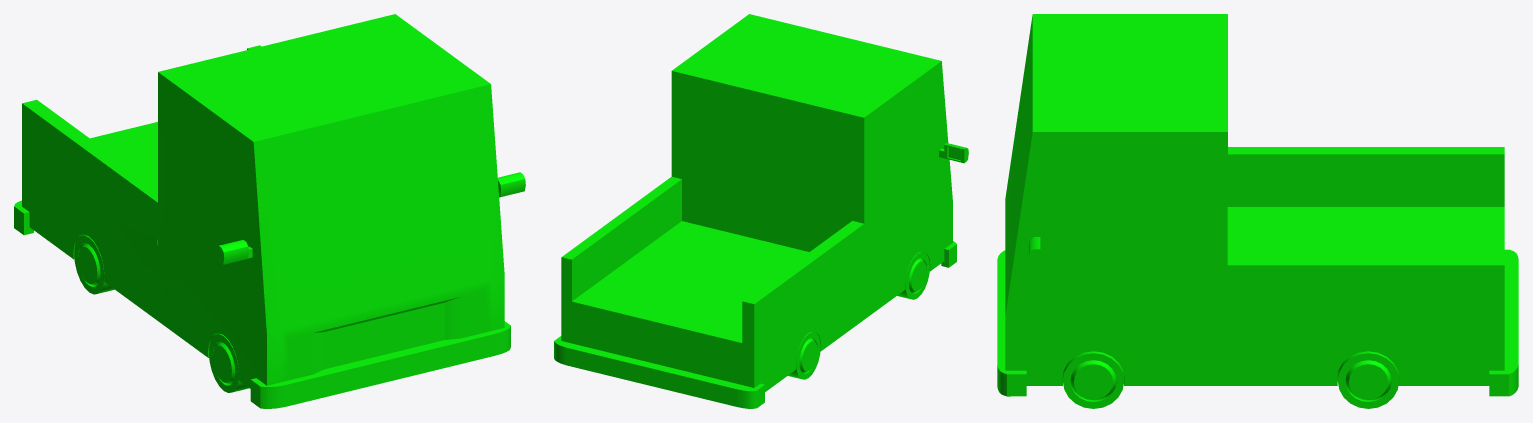
Rendered from BoxTruck.obj.
3 views of the same model, side by side, from view 1: azimuth 30°, elevation 25°; view 2: azimuth 150°, elevation 25°; view 3: azimuth 270°, elevation 25° (orthographic). The views are drawn at different scales.
Parts seen in each view (by area): view 1: BoxTruck; view 2: BoxTruck; view 3: BoxTruck.
Part boxes in pixels (x1,y1,x2,y2): BoxTruck: (14,14,525,408); BoxTruck: (554,14,968,408); BoxTruck: (997,14,1518,408).
Size of the model in its own units: 8.89 by 7.63 by 13.06.
